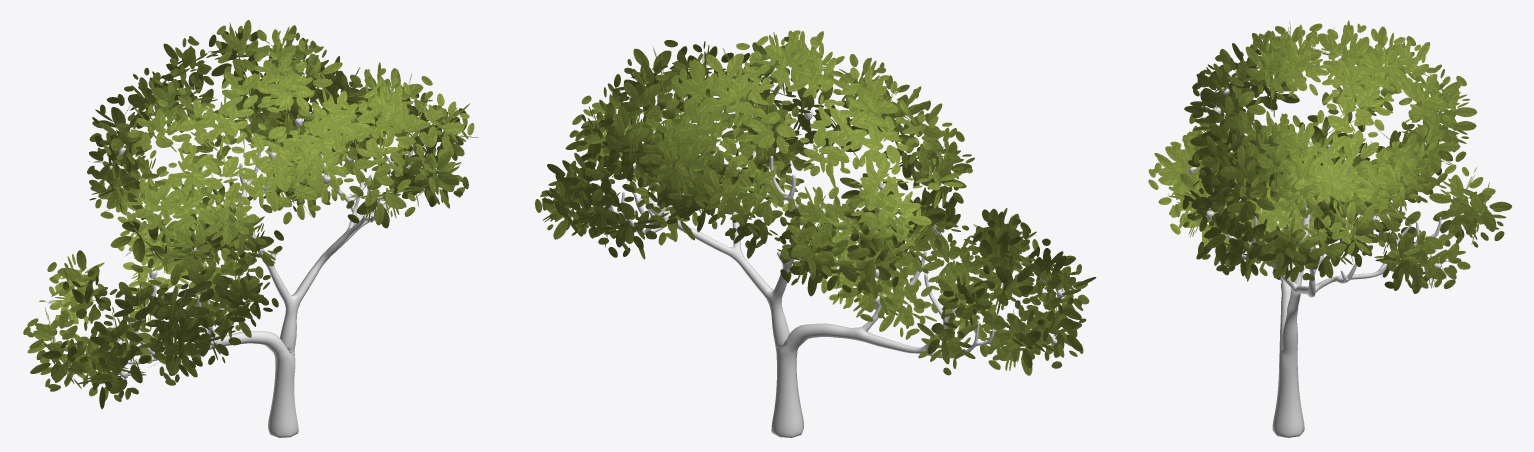
The model's file is arvore_6.fbx.
3 renders of one model, left to right at view 1: azimuth 30°, elevation 25°; view 2: azimuth 150°, elevation 25°; view 3: azimuth 270°, elevation 25°, orthographic. The views are drawn at different scales.
Parts seen in each view (by area): view 1: copa_6, tronco_6, maças_6; view 2: copa_6, tronco_6; view 3: copa_6, tronco_6.
Part boxes in pixels (x1,y1,x2,y2): copa_6: (23, 20, 478, 408); tronco_6: (107, 118, 413, 437); maças_6: (65, 115, 390, 378); copa_6: (535, 30, 1096, 375); tronco_6: (602, 146, 994, 437); copa_6: (1148, 20, 1512, 293); tronco_6: (1225, 144, 1441, 437).
Bounding box in the file's own units: 6747 × 5282 × 4556.
